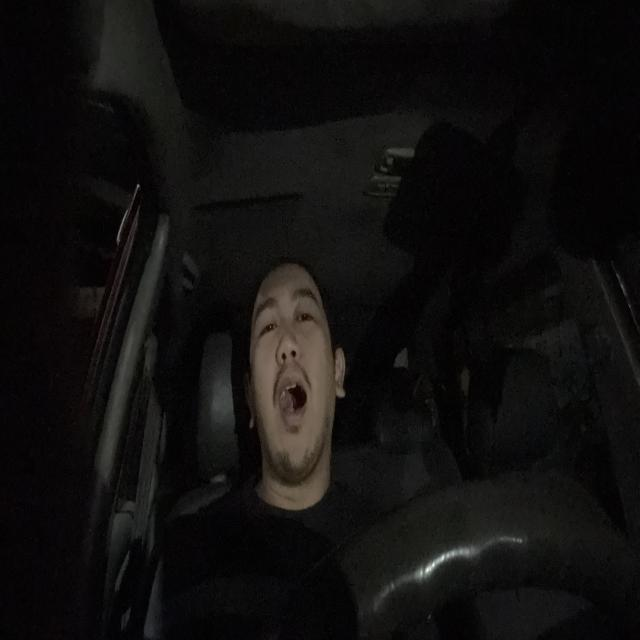open: (290, 286, 320, 338), (253, 292, 280, 347)
